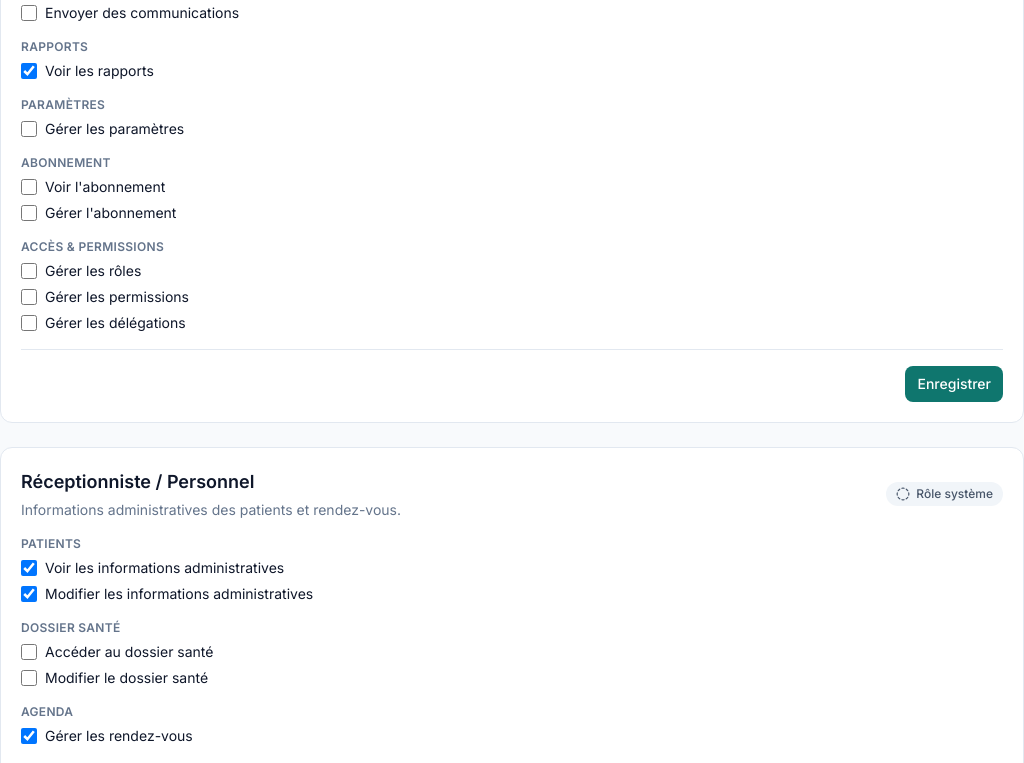
Test: RolesPage › Enregistrer shows a confirmation toast naming the role
This screenshot has width=1024, height=763.
(page scrolled)
Click the button "Enregistrer". click: click(954, 384)
box: [906,366,1003,402]
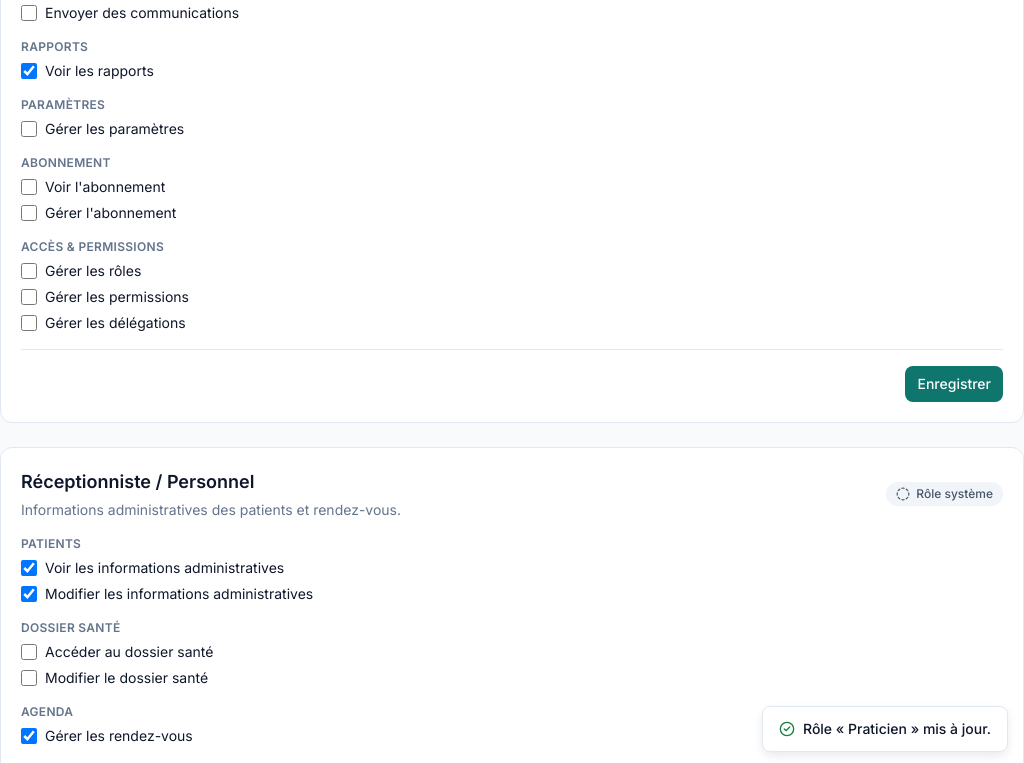
Expected: the text "Rôle « Praticien » mis à jour." is shown, [762,706,1008,752]
